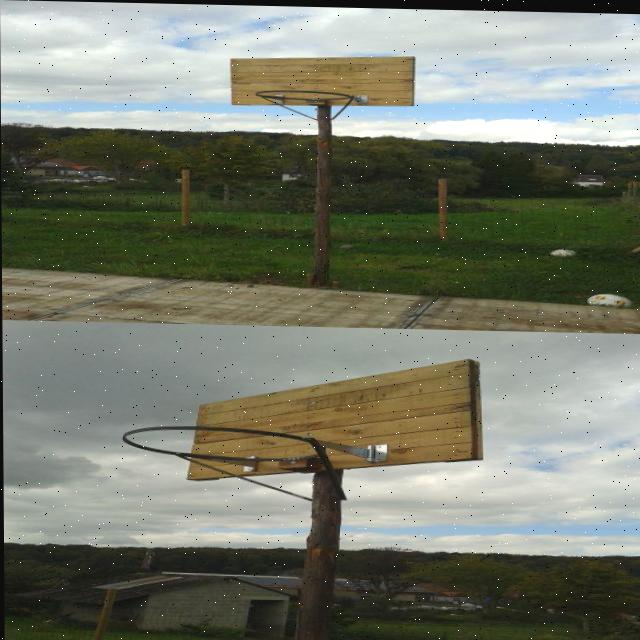basketball: (588, 294, 633, 309), (550, 249, 576, 257)
hoop: (122, 425, 322, 463), (255, 89, 351, 101)
